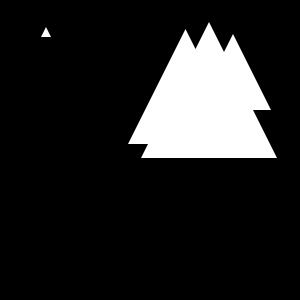triangle: (141, 22, 277, 158), (128, 29, 243, 144), (195, 34, 271, 110), (41, 27, 51, 37)
